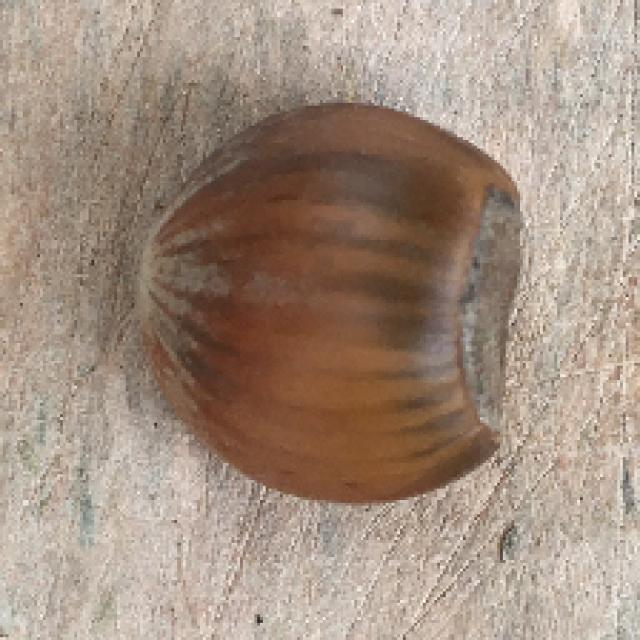damagedHazelnut: (130, 91, 516, 512)
